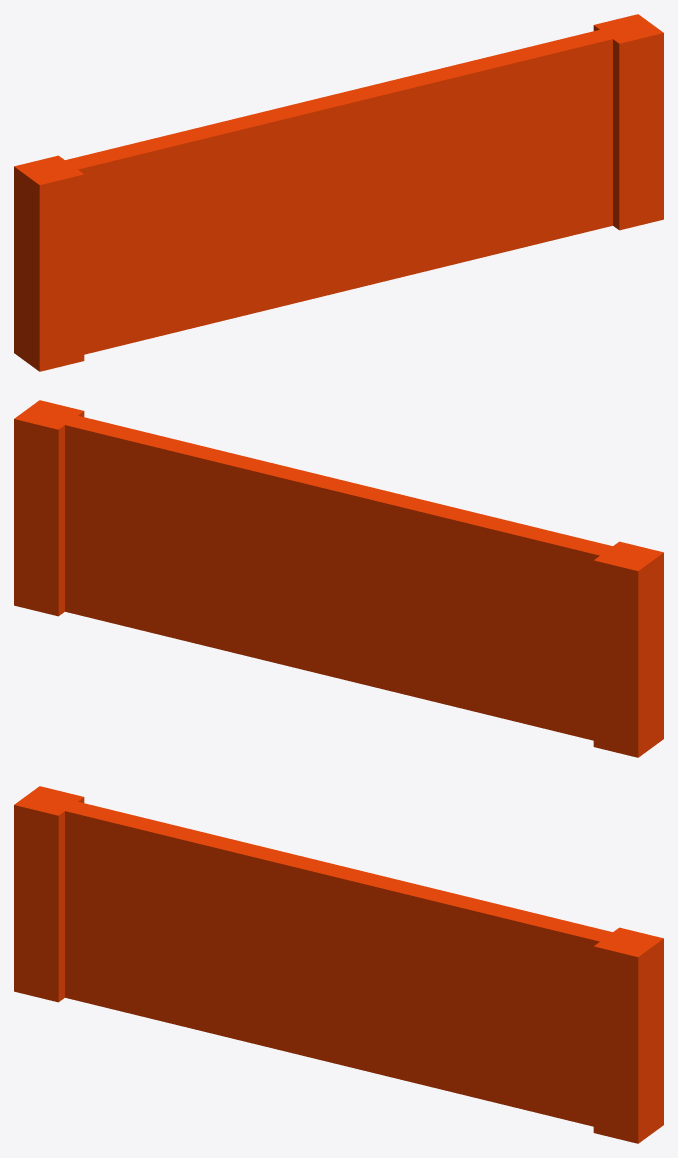
Rendered from CordonTapeStart_PH.fbx.
3 views of the same model, one above another, from view 1: azimuth 30°, elevation 25°; view 2: azimuth 150°, elevation 25°; view 3: azimuth 330°, elevation 25° (orthographic).
Parts seen in each view (by area): view 1: StreetStallRoof__11_, CordonedOffTape__14_, CordonedOffTape__13_, CordonedOffTape__12_; view 2: StreetStallRoof__11_, CordonedOffTape__14_, CordonedOffTape__13_, CordonedOffTape__12_; view 3: StreetStallRoof__11_, CordonedOffTape__14_, CordonedOffTape__12_, CordonedOffTape__13_.
Part boxes in pixels (<box>): StreetStallRoof__11_: <box>65,29,612,261</box>; CordonedOffTape__14_: <box>84,132,612,354</box>; CordonedOffTape__13_: <box>14,155,84,371</box>; CordonedOffTape__12_: <box>593,14,663,230</box>; StreetStallRoof__11_: <box>65,415,612,647</box>; CordonedOffTape__14_: <box>65,518,593,740</box>; CordonedOffTape__13_: <box>593,541,663,757</box>; CordonedOffTape__12_: <box>14,400,84,616</box>; StreetStallRoof__11_: <box>65,801,612,1033</box>; CordonedOffTape__14_: <box>65,904,593,1126</box>; CordonedOffTape__12_: <box>593,927,663,1143</box>; CordonedOffTape__13_: <box>14,786,84,1002</box>.
Size of the model in its own units: 350 by 100 by 25.
